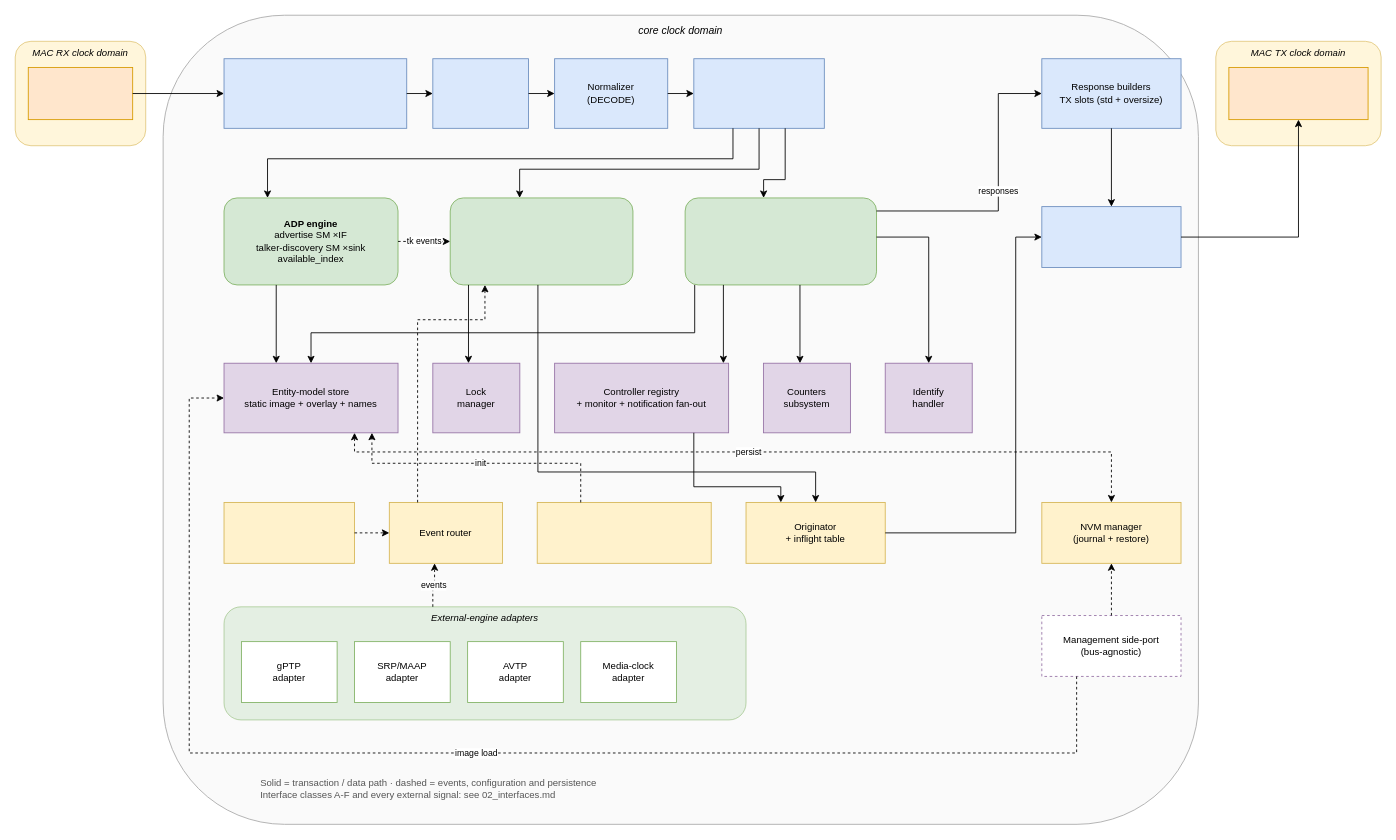
The diagram is 1396 pixels wide and 840 high, and some of its shapes have lost their labels. Here are the shapes that lost their labels. From the top down, the centre of each, then its label:
At [80,93]: "MAC RX async FIFO".
At [315,93]: "RX filter + parser + validator DA · 0x22F0 · FA/FB/FC · cdl+12".
At [480,93]: "RX slots".
At [758,93]: "Scoreboard (hazard classes)".
At [1298,93]: "MAC TX async FIFO".
At [541,241]: "ACMP engine stateless talker responder listener-SM executor ×sink probe inflight".
At [780,241]: "AECP engine (µCPU) AEM + MVU decode / dispatch µcode · validation · gather".
At [1111,237]: "TX arbiter".
At [289,532]: "Timer service + PRNG".
At [623,532]: "Boot / init sequencer config + ID regs + profile ROMs".
